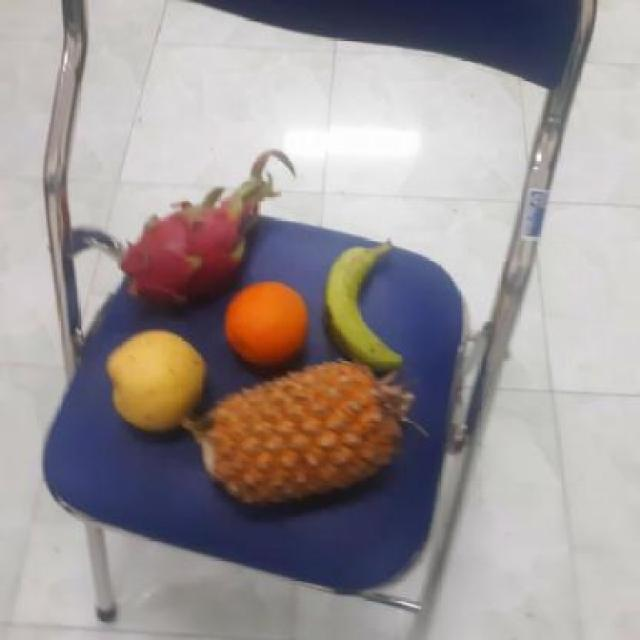banana: (320, 239, 397, 370)
dragon fruit: (127, 203, 255, 314)
oren: (215, 281, 314, 370)
pear: (104, 330, 213, 433)
pineapple: (197, 362, 421, 512)
